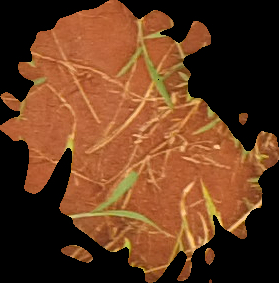soil: (2, 1, 277, 283)
